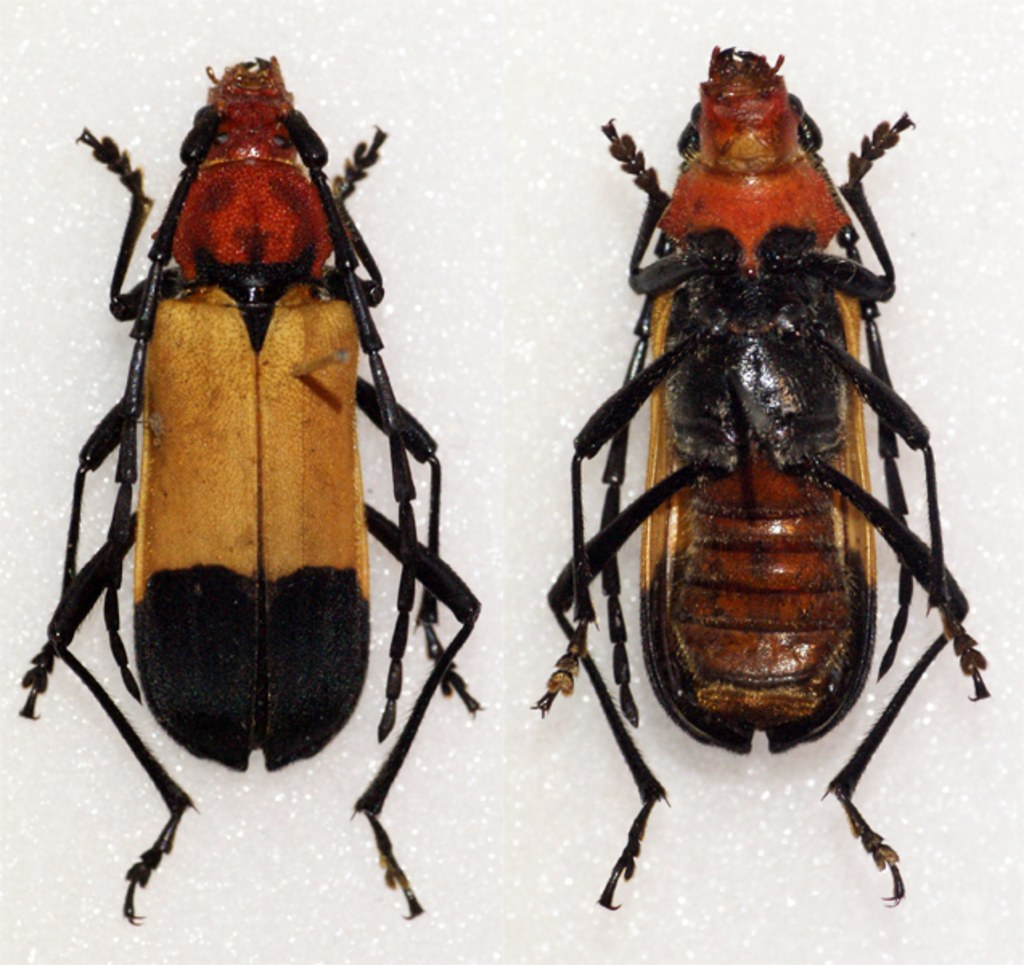insect: (13, 53, 485, 926), (524, 43, 992, 905)
